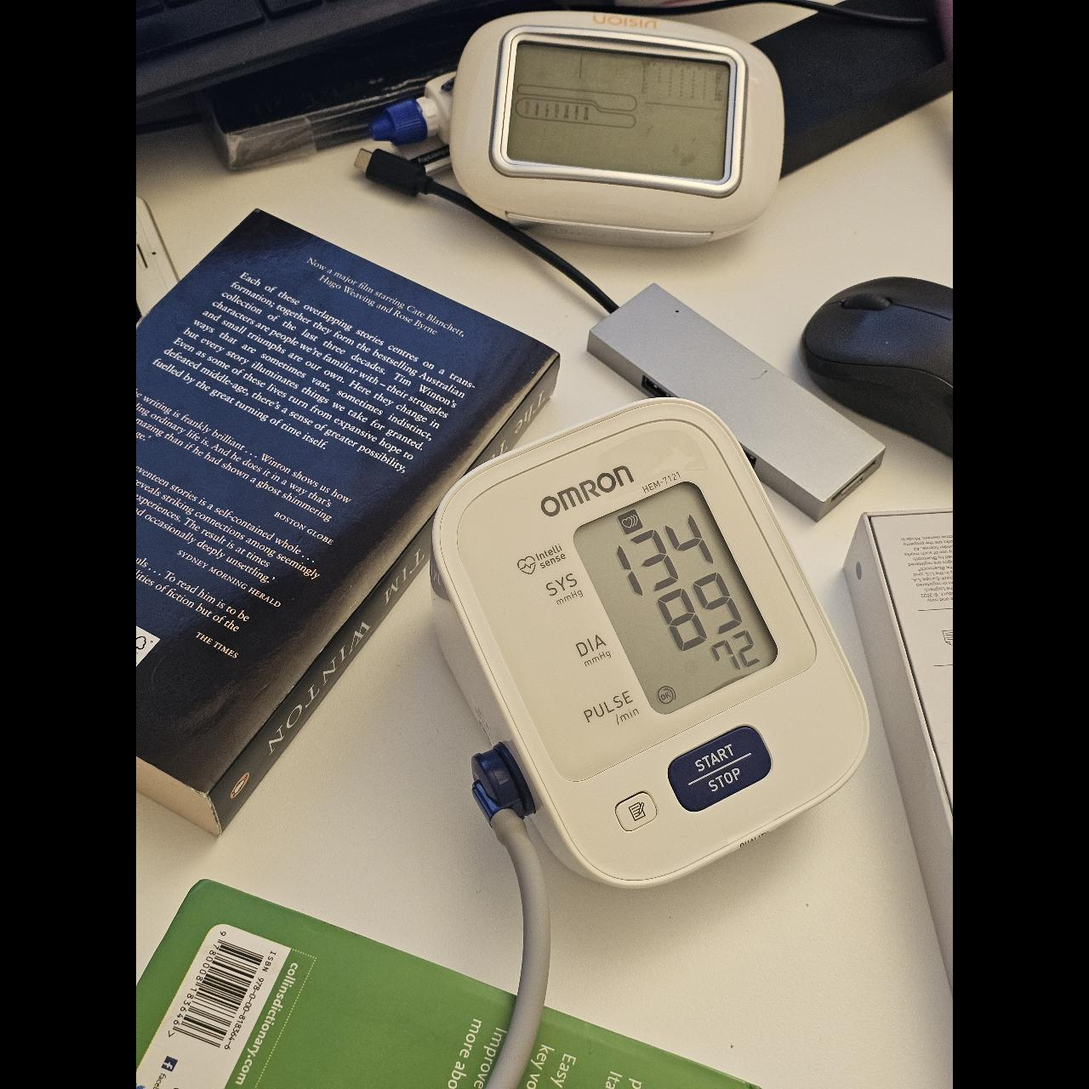blood pressure monitor: (428, 395, 871, 893)
